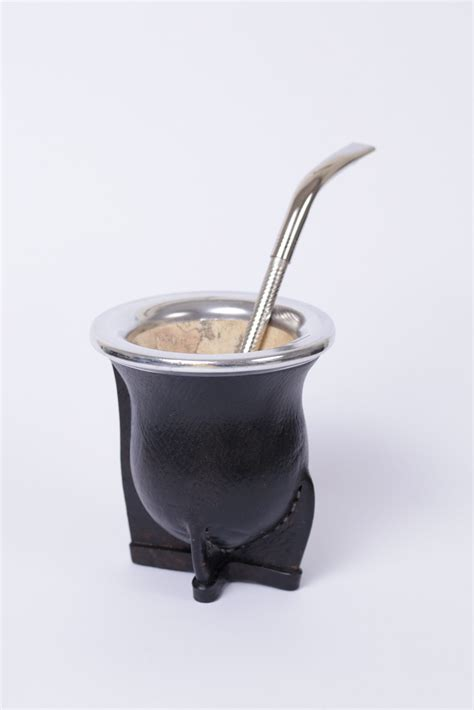cuero: (105, 355, 325, 607)
